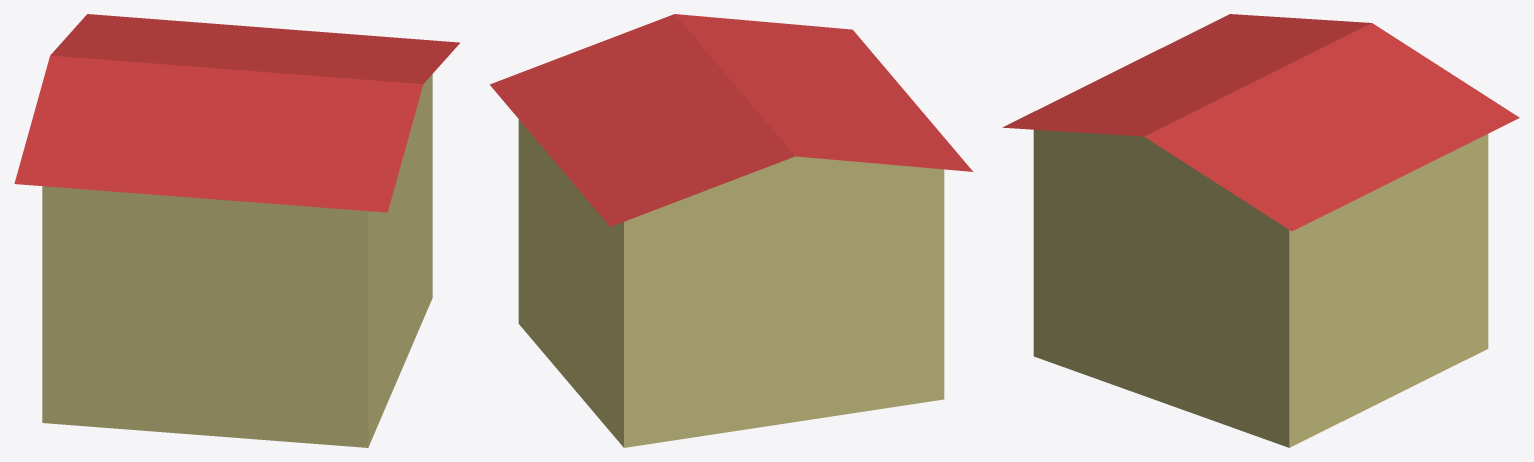
3 renders of one model, left to right at view 1: azimuth 30°, elevation 25°; view 2: azimuth 150°, elevation 25°; view 3: azimuth 270°, elevation 25°, orthographic. The views are drawn at different scales.
Bounding box in the file's own units: 17.24 × 17.34 × 10.04.
